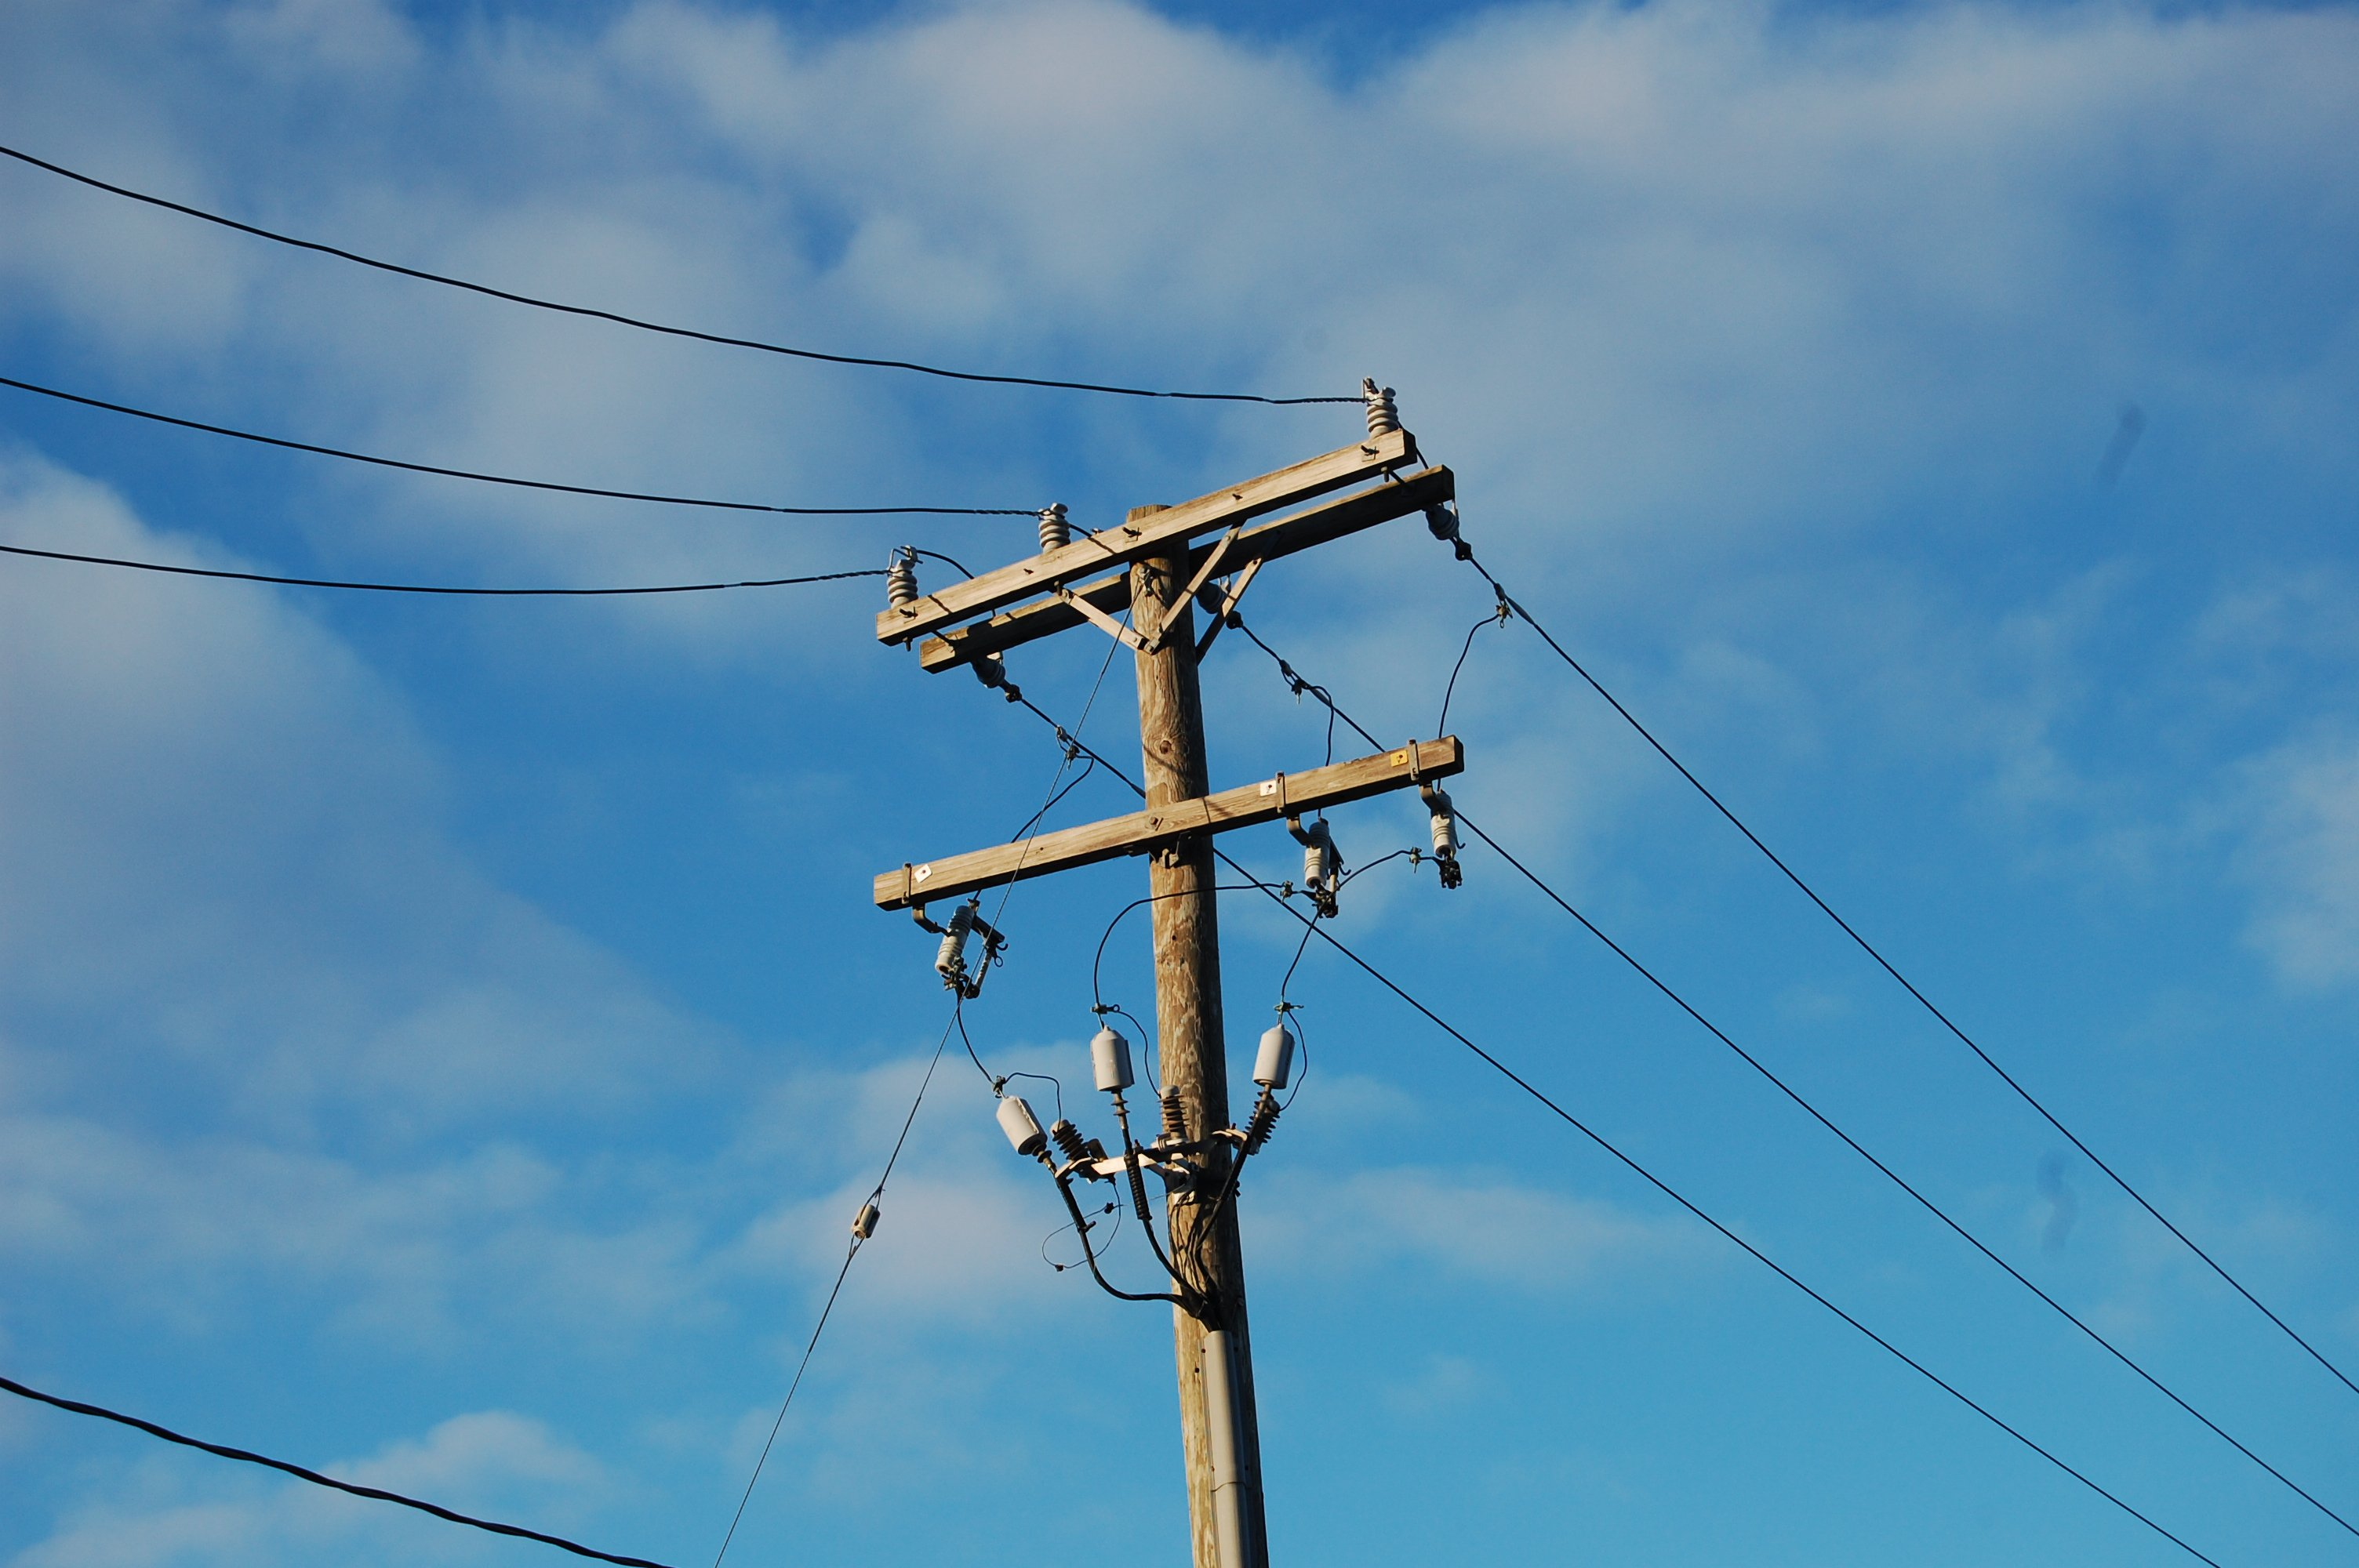utility_pole: (815, 359, 1552, 1337)
